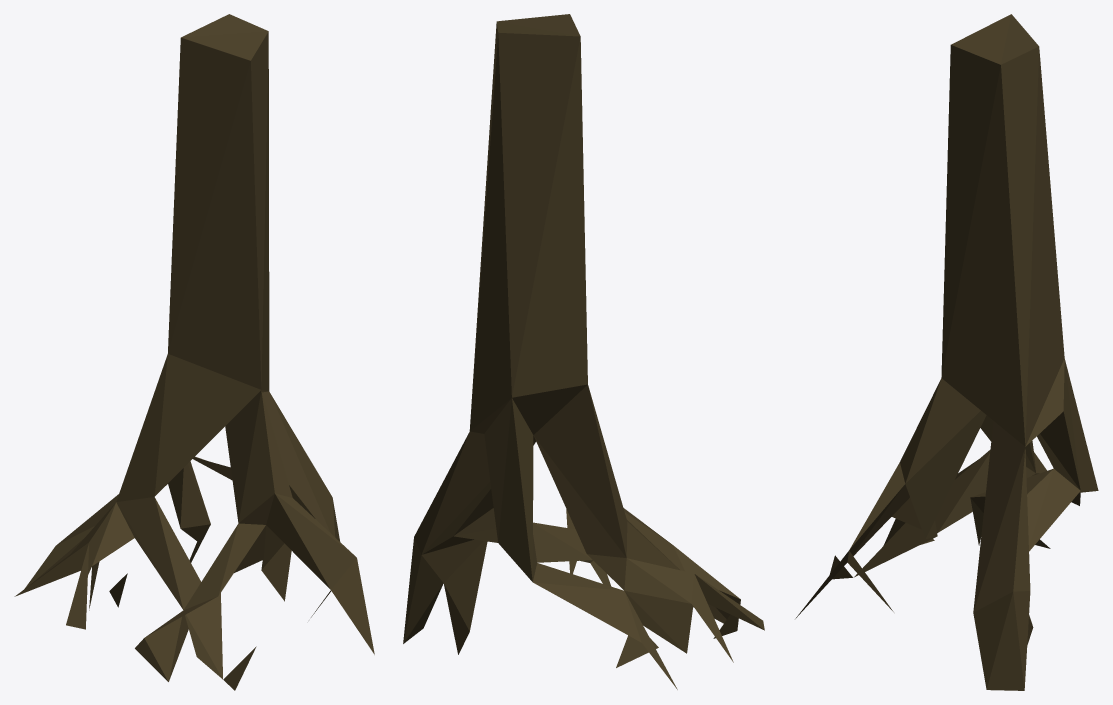
File: mangrove-roots.lod2.glb
3 views of the same model, side by side, from view 1: azimuth 30°, elevation 25°; view 2: azimuth 150°, elevation 25°; view 3: azimuth 270°, elevation 25° (orthographic). The views are drawn at different scales.
Parts seen in each view (by area): view 1: tree:polySurface1_lambert1_0; view 2: tree:polySurface1_lambert1_0; view 3: tree:polySurface1_lambert1_0.
Boxes of the visible parts, x1,y1,x2,y2 form: tree:polySurface1_lambert1_0: (14, 14, 374, 690); tree:polySurface1_lambert1_0: (403, 14, 764, 689); tree:polySurface1_lambert1_0: (795, 14, 1098, 690).
Bounding box in the file's own units: 1.41 × 2.56 × 1.18.
